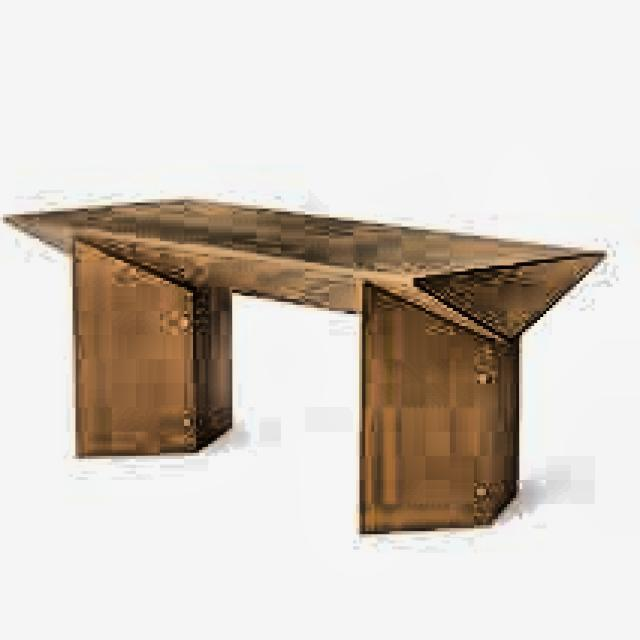cardboard: (3, 193, 610, 534)
